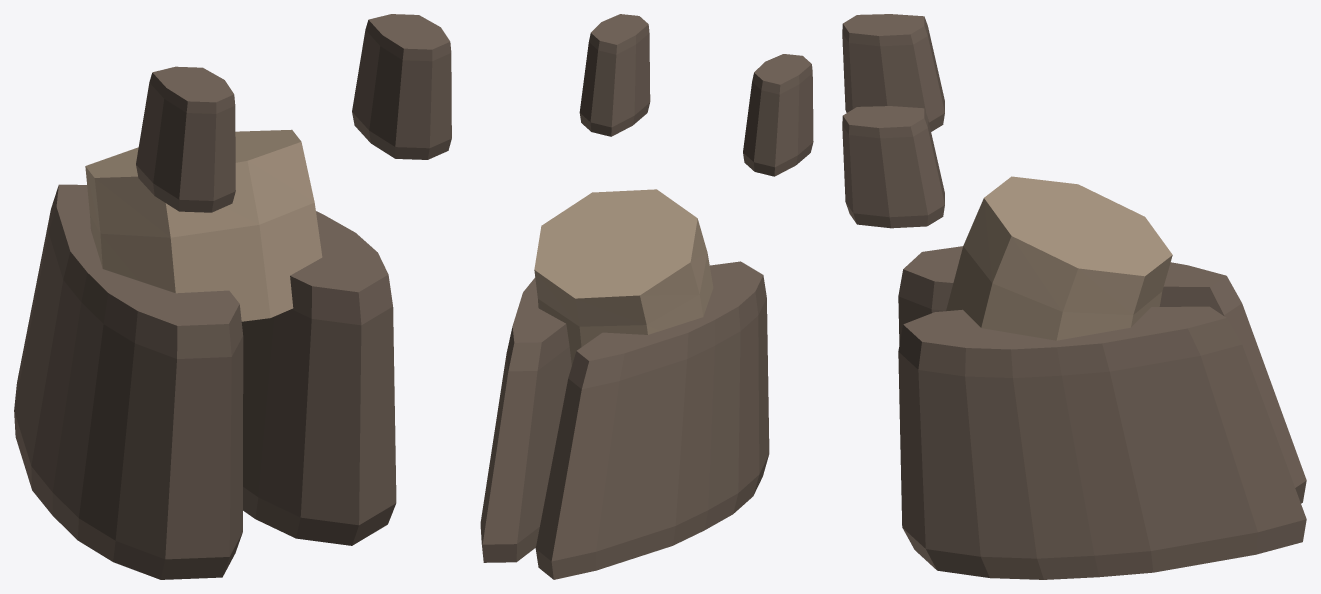
The model's file is stag_foot_fr_01.glb.
3 views of the same model, side by side, from view 1: azimuth 30°, elevation 25°; view 2: azimuth 150°, elevation 25°; view 3: azimuth 270°, elevation 25° (orthographic). The views are drawn at different scales.
Parts seen in each view (by area): view 1: FrontRHoof0, FrontRHoof1, FrontRPasternSkin, FrontRDewclaw0, FrontRDewclaw1; view 2: FrontRHoof0, FrontRPasternSkin, FrontRHoof1, FrontRDewclaw0, FrontRDewclaw1; view 3: FrontRHoof1, FrontRPasternSkin, FrontRDewclaw1, FrontRHoof0, FrontRDewclaw0.
Boxes of the visible parts, x1,y1,x2,y2 form: FrontRHoof0: (14, 184, 243, 579); FrontRHoof1: (241, 211, 396, 545); FrontRPasternSkin: (85, 129, 322, 321); FrontRDewclaw0: (136, 66, 235, 212); FrontRDewclaw1: (352, 14, 451, 159); FrontRHoof0: (535, 261, 769, 579); FrontRPasternSkin: (534, 189, 713, 365); FrontRHoof1: (480, 277, 571, 562); FrontRDewclaw0: (743, 54, 813, 176); FrontRDewclaw1: (579, 14, 650, 136); FrontRHoof1: (898, 306, 1306, 579); FrontRPasternSkin: (946, 176, 1172, 340); FrontRDewclaw1: (842, 106, 944, 228); FrontRHoof0: (898, 246, 1306, 503); FrontRDewclaw0: (842, 14, 944, 131).
Bounding box in the file's own units: 0.0724 × 0.128 × 0.1195.
